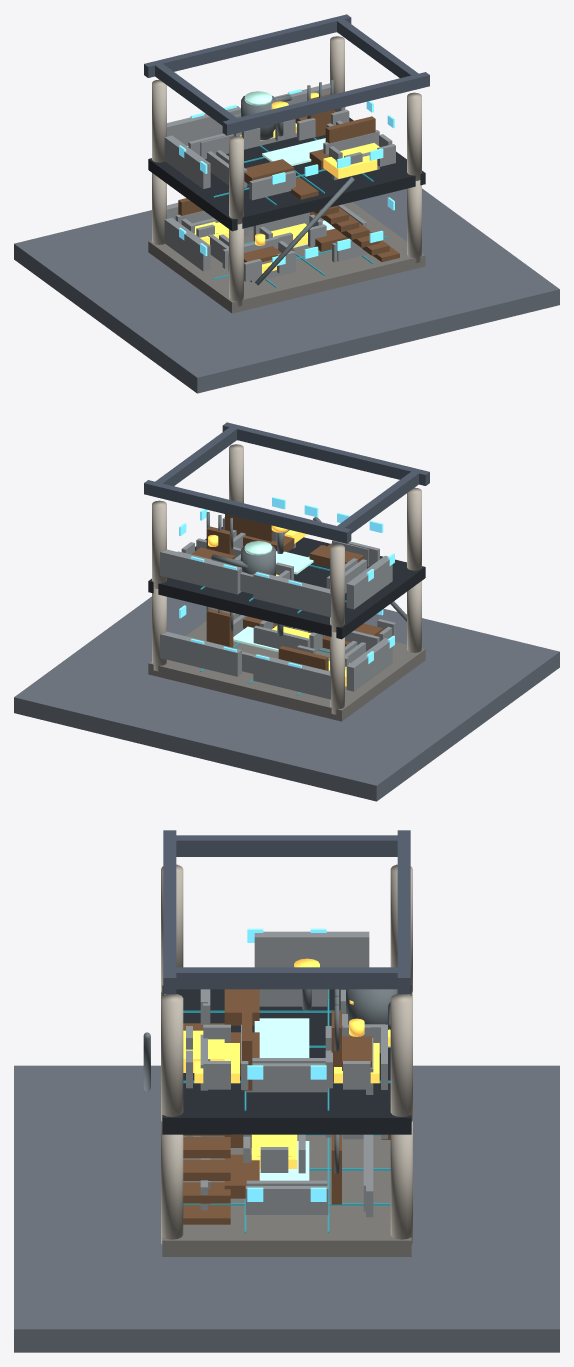
3 renders of one model, top to bottom at view 1: azimuth 30°, elevation 25°; view 2: azimuth 150°, elevation 25°; view 3: azimuth 270°, elevation 25°, orthographic. The views are drawn at different scales.
Visible parts, largest first — view 1: ProfileGround.007, BuildingFloor_1.004, BuildingFloor_2.004, RoofEaveSouth_visual_barracks, RoofEaveNorth_visual_barracks, RoofEaveWest_visual_barracks, RoofEaveEast_visual_barracks, SideWall_2.004, SideWall_1.004, Column_2_1_-1.004, Column_2_-1_-1.004, BackWall_2_-1.004 (+15 smaller); view 2: ProfileGround.007, BuildingFloor_2.004, BuildingFloor_1.004, RoofEaveNorth_visual_barracks, RoofEaveSouth_visual_barracks, BackWall_1_1.004, BackWall_2_1.004, BackWall_1_-1.004, BackWall_2_-1.004, RoofEaveWest_visual_barracks, RoofEaveEast_visual_barracks, SideWall_1.004 (+16 smaller); view 3: ProfileGround.007, BuildingFloor_1.004, BuildingFloor_2.004, RoofEaveEast_visual_barracks, RoofEaveWest_visual_barracks, SideWall_2.004, Column_2_1_-1.004, Column_2_1_1.004, Column_1_1_-1.004, Column_1_1_1.004, RoofEaveSouth_visual_barracks, RoofEaveNorth_visual_barracks (+22 smaller).
Boxes of the visible parts, <box> form: ProfileGround.007: <box>14,188,559,393</box>; BuildingFloor_1.004: <box>148,202,425,313</box>; BuildingFloor_2.004: <box>148,117,425,231</box>; RoofEaveSouth_visual_barracks: <box>222,72,429,135</box>; RoofEaveNorth_visual_barracks: <box>144,14,351,77</box>; RoofEaveWest_visual_barracks: <box>155,63,236,125</box>; RoofEaveEast_visual_barracks: <box>337,19,418,78</box>; SideWall_2.004: <box>164,135,210,188</box>; SideWall_1.004: <box>164,218,210,271</box>; Column_2_1_-1.004: <box>407,92,421,180</box>; Column_2_-1_-1.004: <box>229,136,243,224</box>; BackWall_2_-1.004: <box>167,106,240,145</box>; ProfileGround.007: <box>14,596,559,801</box>; BuildingFloor_2.004: <box>148,527,425,639</box>; BuildingFloor_1.004: <box>148,610,425,721</box>; RoofEaveNorth_visual_barracks: <box>144,480,351,543</box>; RoofEaveSouth_visual_barracks: <box>222,422,429,485</box>; BackWall_1_1.004: <box>160,631,241,676</box>; BackWall_2_1.004: <box>160,549,241,594</box>; BackWall_1_-1.004: <box>253,654,330,699</box>; BackWall_2_-1.004: <box>253,571,330,617</box>; RoofEaveWest_visual_barracks: <box>337,471,418,533</box>; RoofEaveEast_visual_barracks: <box>155,427,236,486</box>; SideWall_1.004: <box>346,638,392,691</box>; ProfileGround.007: <box>14,1065,559,1352</box>; BuildingFloor_1.004: <box>162,1135,411,1256</box>; BuildingFloor_2.004: <box>162,985,411,1134</box>; RoofEaveEast_visual_barracks: <box>174,967,399,989</box>; RoofEaveWest_visual_barracks: <box>176,835,398,856</box>; SideWall_2.004: <box>254,931,369,967</box>; Column_2_1_-1.004: <box>161,994,183,1121</box>; Column_2_1_1.004: <box>390,994,412,1121</box>; Column_1_1_-1.004: <box>161,1121,183,1244</box>; Column_1_1_1.004: <box>390,1121,412,1244</box>; RoofEaveSouth_visual_barracks: <box>163,830,176,994</box>; RoofEaveNorth_visual_barracks: <box>397,830,410,994</box>.
Bounding box in the file's own units: 4.8 × 2.69 × 4.2.
